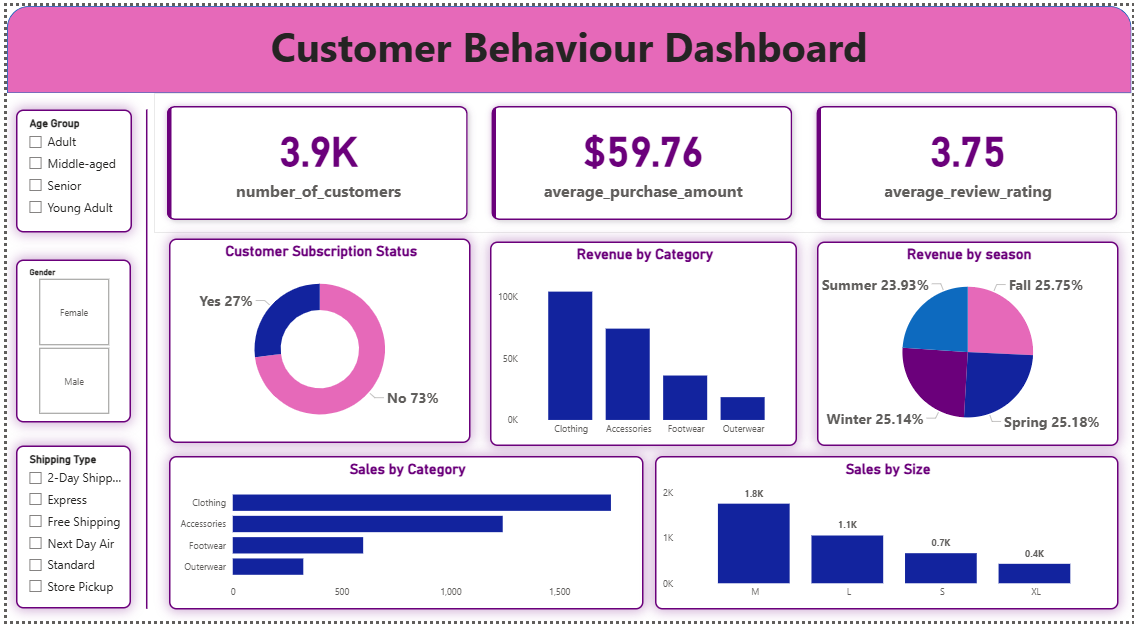

The dashboard page shown, as its layout file describes it:
{"tool":"powerbi","page":{"name":"Page 1","canvas":[1500,820],"ordinal":0},"visuals":[{"type":"cardVisual","fields":{"Data":["karthik customer.number_of_customers","karthik customer.average_purchase_amount","karthik customer.average_review_rating"]},"box":[195.5,116.2,1303.8,186.3],"z":0},{"type":"shape","box":[0,0,1499.3,116.2],"z":1},{"type":"textbox","box":[0,11.1,1499.3,105.1],"z":2},{"type":"donutChart","title":"Customer Subscription Status","fields":{"Category":["karthik customer.subscription_status"],"Y":["karthik customer.customer_id"]},"box":[215.8,309.8,402,272.9],"z":3},{"type":"clusteredColumnChart","title":"Revenue by Category","fields":{"Category":["karthik customer.category"],"Y":["karthik customer.purchase_amount"]},"box":[643.6,313.5,409.4,272.9],"z":4},{"type":"slicer","fields":{"Values":["karthik customer.shipping_type"]},"box":[12.9,586.4,153.1,217.6],"z":5},{"type":"slicer","fields":{"Values":["karthik customer.gender"]},"box":[12.9,337.5,153.1,217.6],"z":6},{"type":"slicer","fields":{"Values":["karthik customer.age_group"]},"box":[11.1,138.3,154.9,164.1],"z":7},{"type":"pieChart","title":"Revenue by season","fields":{"Category":["karthik customer.season"],"Y":["karthik customer.purchase_amount"]},"box":[1080.7,313.5,402,272.9],"z":8},{"type":"clusteredBarChart","title":"Sales by Category","fields":{"Category":["karthik customer.category"],"Y":["karthik customer.customer_id"]},"box":[215.8,599.3,632.5,204.7],"z":9},{"type":"shape","box":[166,138.3,40.6,665.7],"z":10},{"type":"clusteredColumnChart","title":"Sales by Size","fields":{"Category":["karthik customer.size"],"Y":["karthik customer.customer_id"]},"box":[864.9,599.3,617.8,204.7],"z":11}]}

Visuals, with their boxes in screenshot pixels (x1, y1, x2, y2), scaled from the page's 1500x820 canvas onto the 1135x624 screenshot:
cardVisual - karthik customer.number_of_customers x karthik customer.average_purchase_amount: [left=148, top=88, right=1134, bottom=230]
shape: [left=0, top=0, right=1134, bottom=88]
textbox: [left=0, top=8, right=1134, bottom=88]
"Customer Subscription Status" donutChart: [left=163, top=236, right=467, bottom=443]
"Revenue by Category" clusteredColumnChart: [left=487, top=239, right=797, bottom=446]
slicer - karthik customer.shipping_type: [left=10, top=446, right=126, bottom=612]
slicer - karthik customer.gender: [left=10, top=257, right=126, bottom=422]
slicer - karthik customer.age_group: [left=8, top=105, right=126, bottom=230]
"Revenue by season" pieChart: [left=818, top=239, right=1122, bottom=446]
"Sales by Category" clusteredBarChart: [left=163, top=456, right=642, bottom=612]
shape: [left=126, top=105, right=156, bottom=612]
"Sales by Size" clusteredColumnChart: [left=654, top=456, right=1122, bottom=612]
